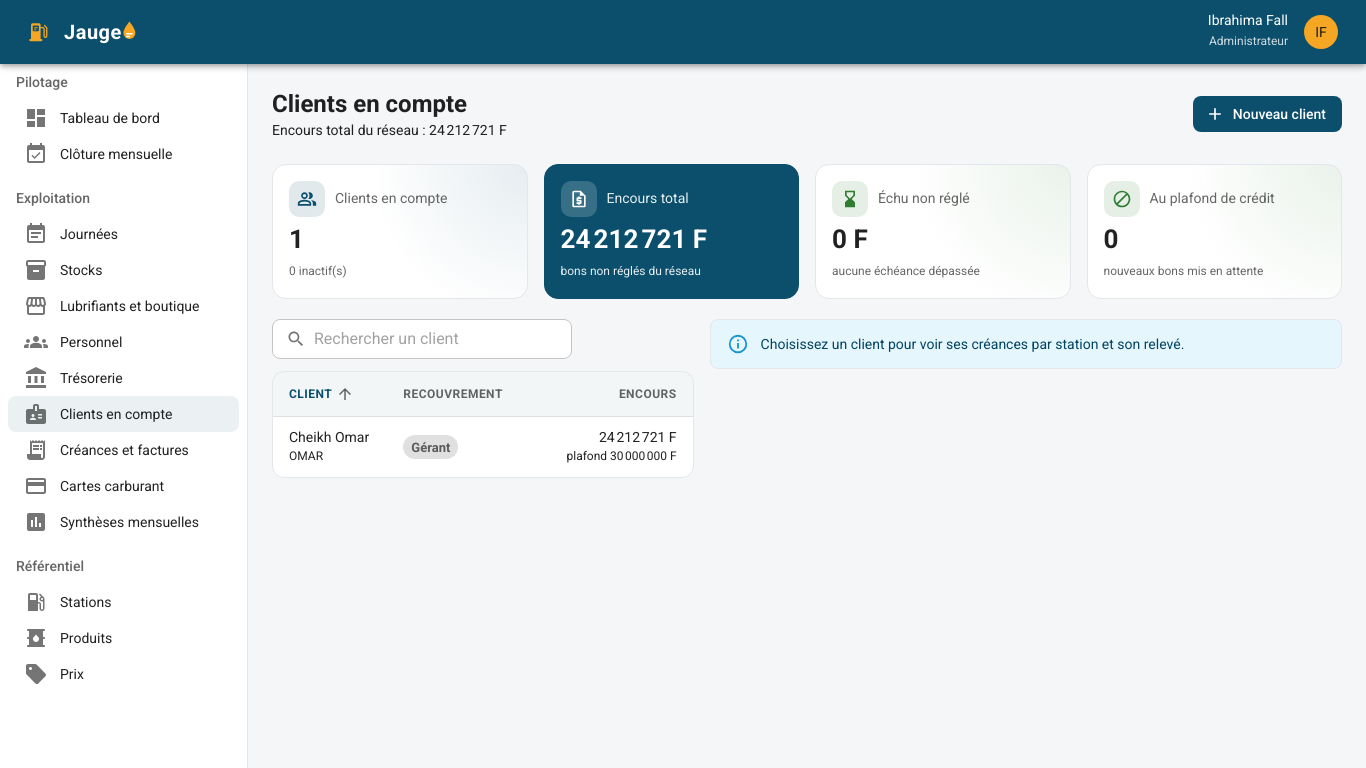
Test: clients en compte et synthèses › le comptable crée un client sous plafond et consulte sa créance par station
Expected: the row with test id "client-OMAR" shows "24 212 721 F", x1=599 y1=429 x2=677 y2=445
Click the button "Nouveau client" at (1267, 114), box x1=1193 y1=96 x2=1342 y2=132
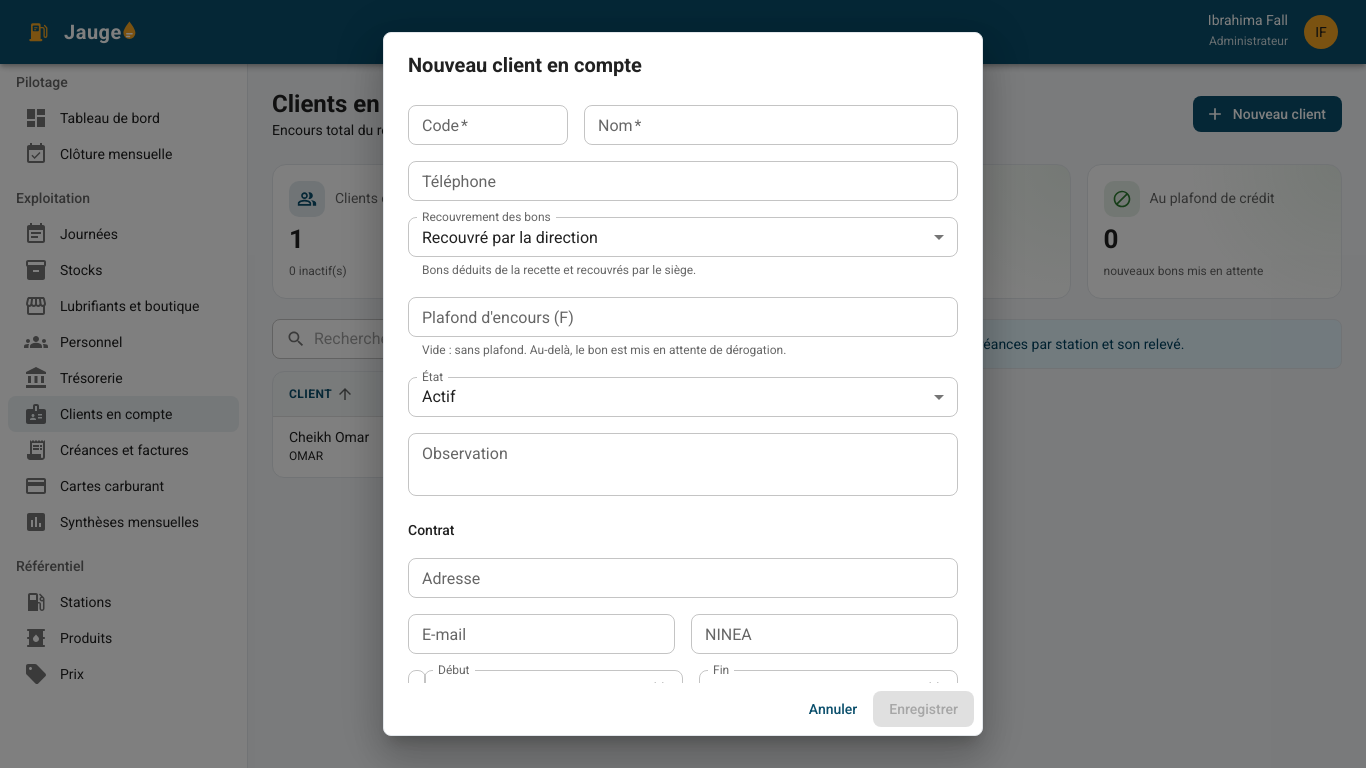
Type "diallo" into the field labelled "Code *" at (488, 125), box x1=408 y1=105 x2=568 y2=145
Type "Transports Diallo" into the field labelled "Nom *" at (771, 125), box x1=584 y1=105 x2=958 y2=145
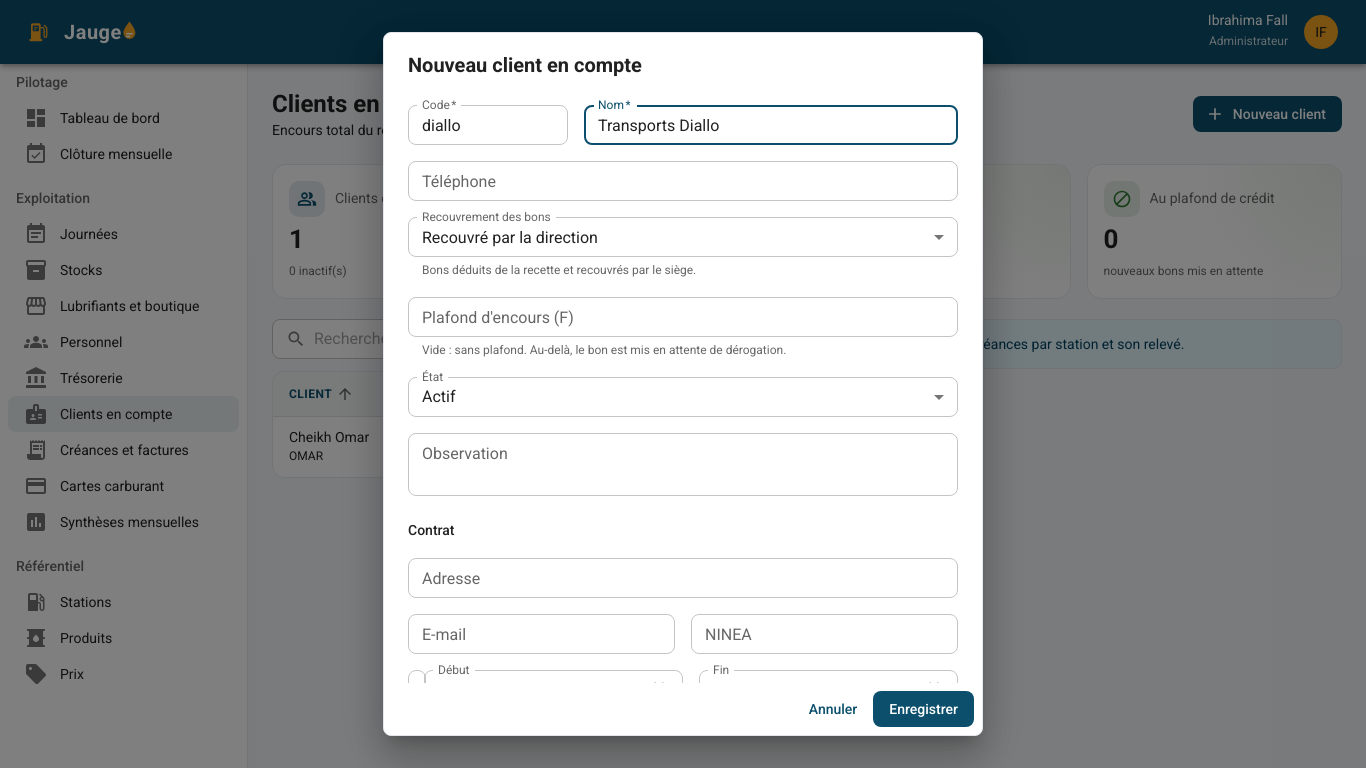
Type "12,5" into the field labelled "Plafond d'encours (F)" at (683, 317), box x1=408 y1=297 x2=958 y2=337
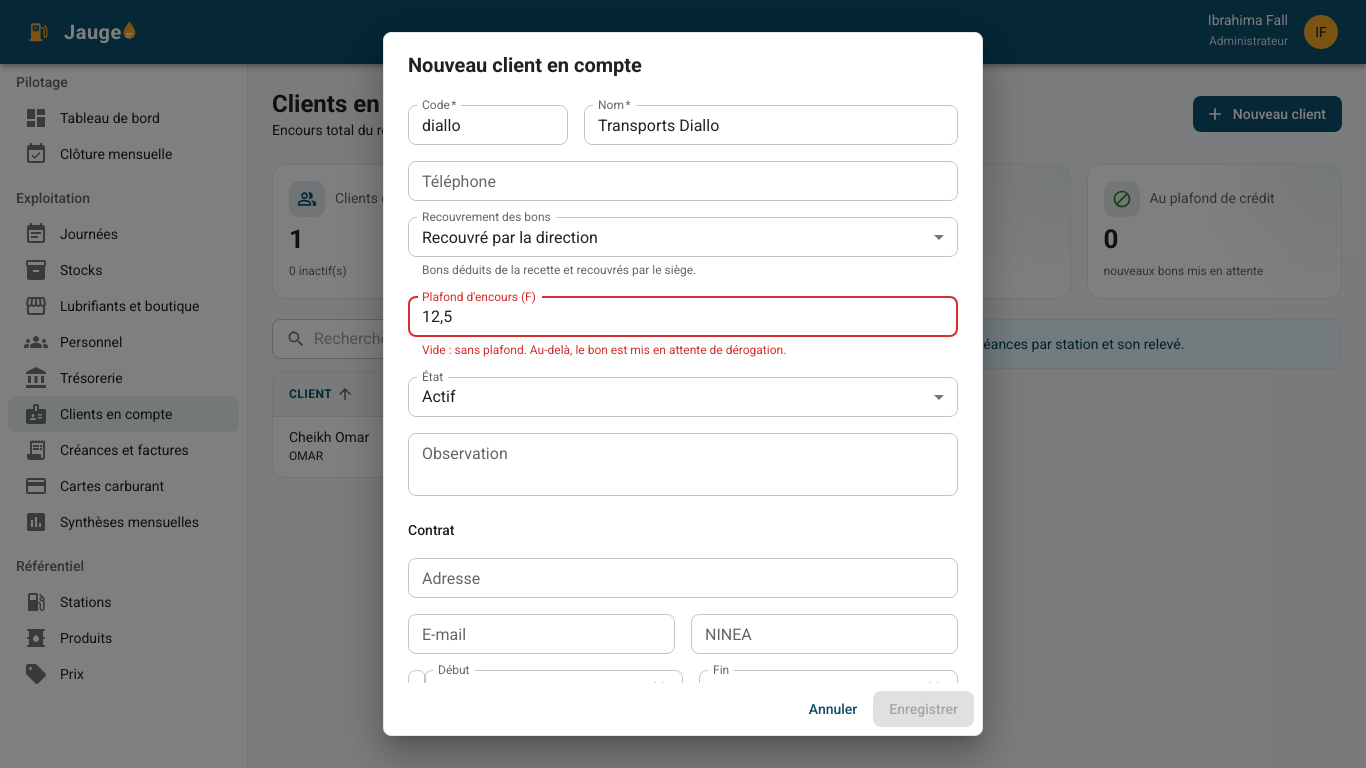
Result: the button "Enregistrer" is disabled at x1=873 y1=690 x2=974 y2=727
Clear the field labelled "Plafond d'encours (F)" at (683, 317), box x1=408 y1=297 x2=958 y2=337
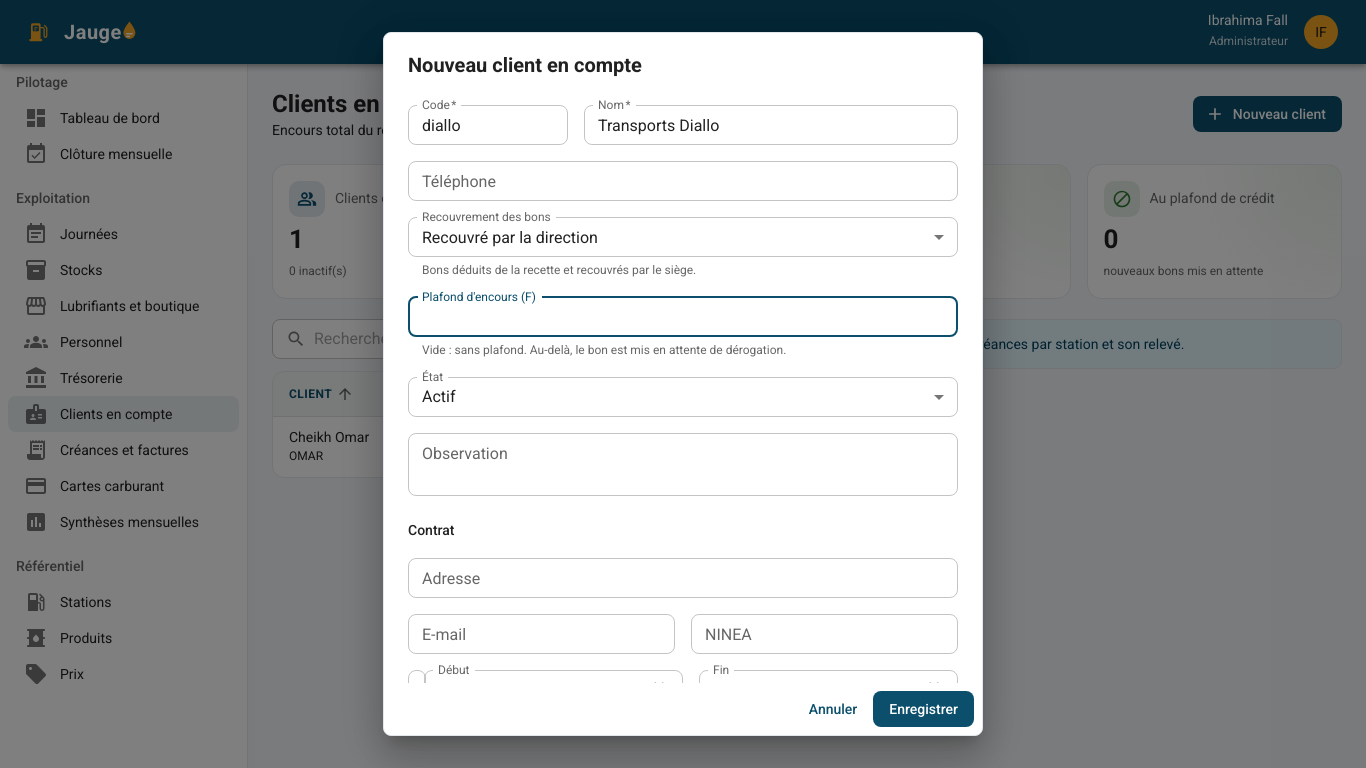
Click the button "Enregistrer" at (924, 709), box x1=873 y1=690 x2=974 y2=727
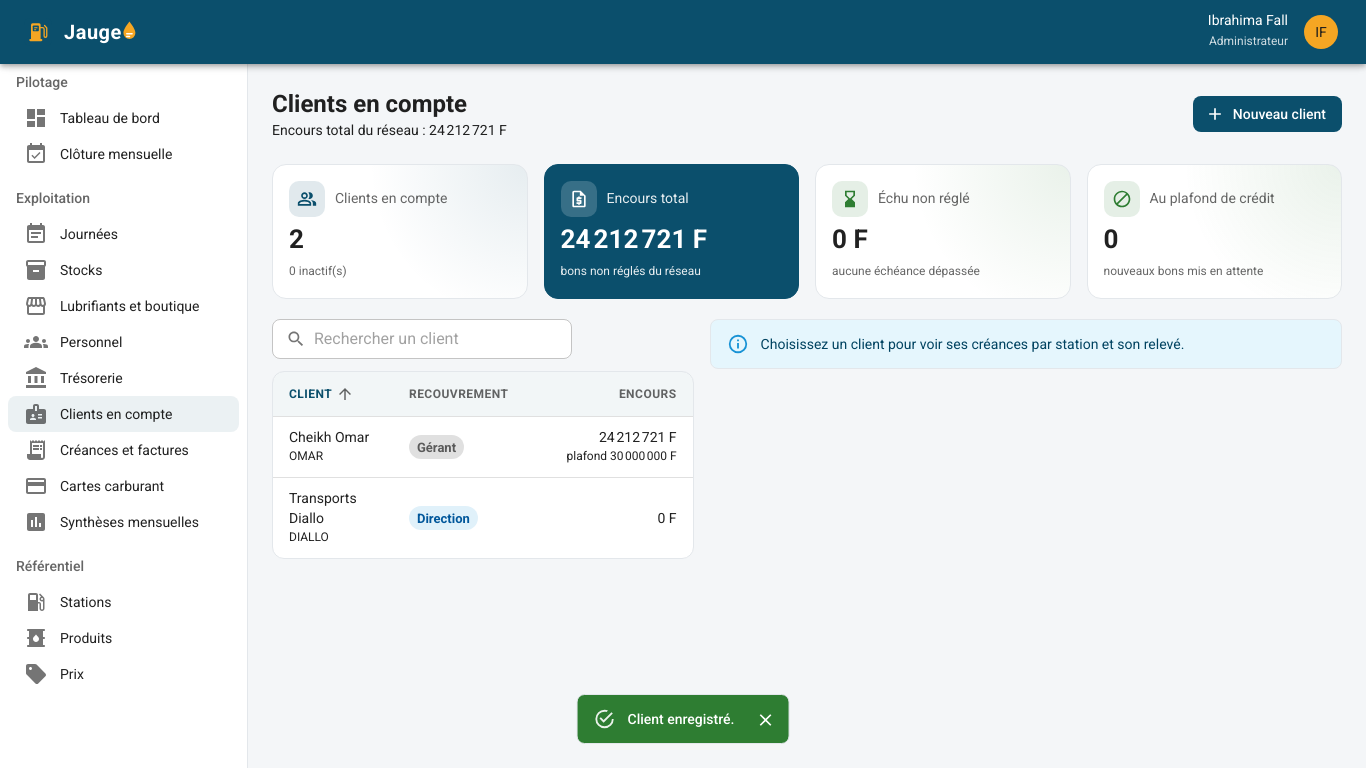
Result: the dialog is gone
Result: the row with test id "client-DIALLO" is shown at x1=273 y1=478 x2=693 y2=558
Click the row with test id "client-OMAR" at (483, 447), box x1=273 y1=417 x2=693 y2=478
(page scrolled)
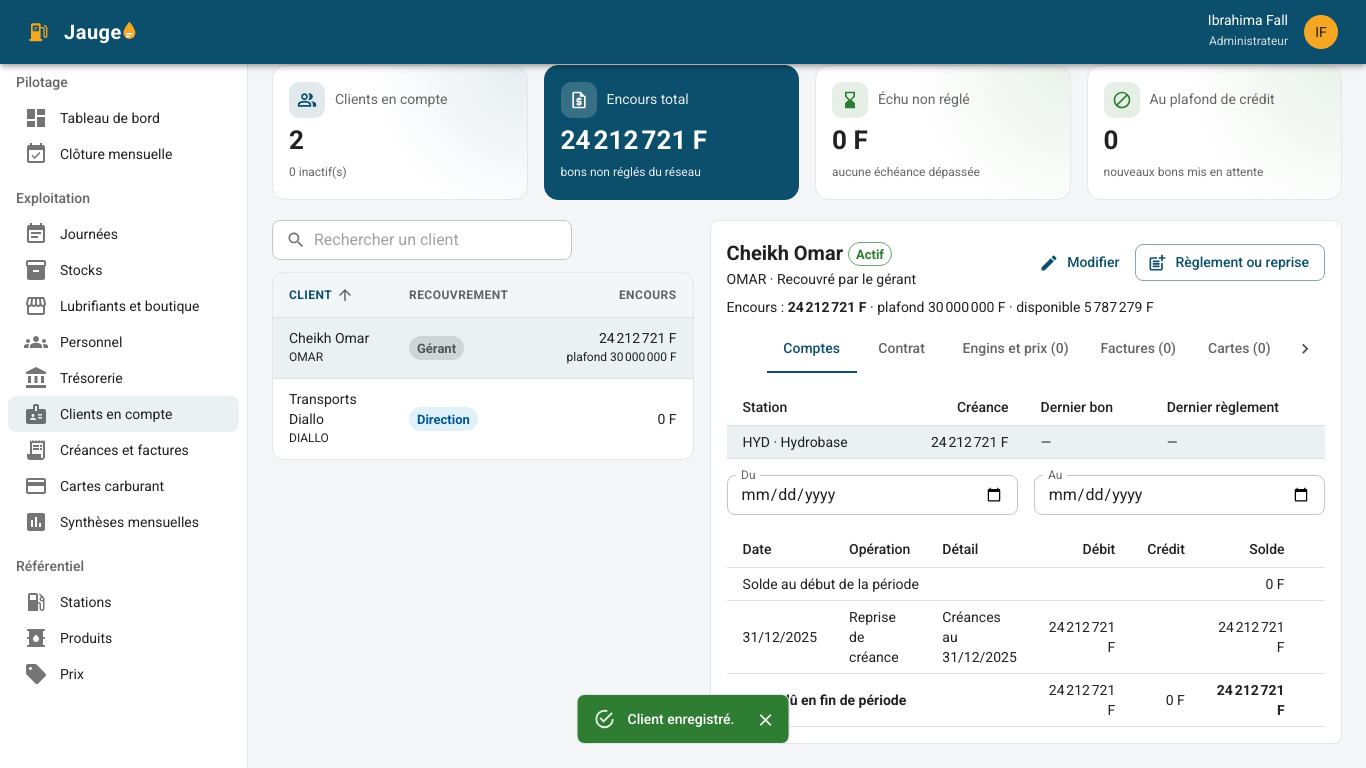
Result: the text with test id "encours-client" reads "24 212 721 F" at x1=788 y1=298 x2=866 y2=314
Result: the cell with test id "solde-releve" reads "24 212 721 F" at x1=1217 y1=682 x2=1285 y2=718
Result: the text "Reprise de créance" is shown at x1=833 y1=600 x2=926 y2=673
